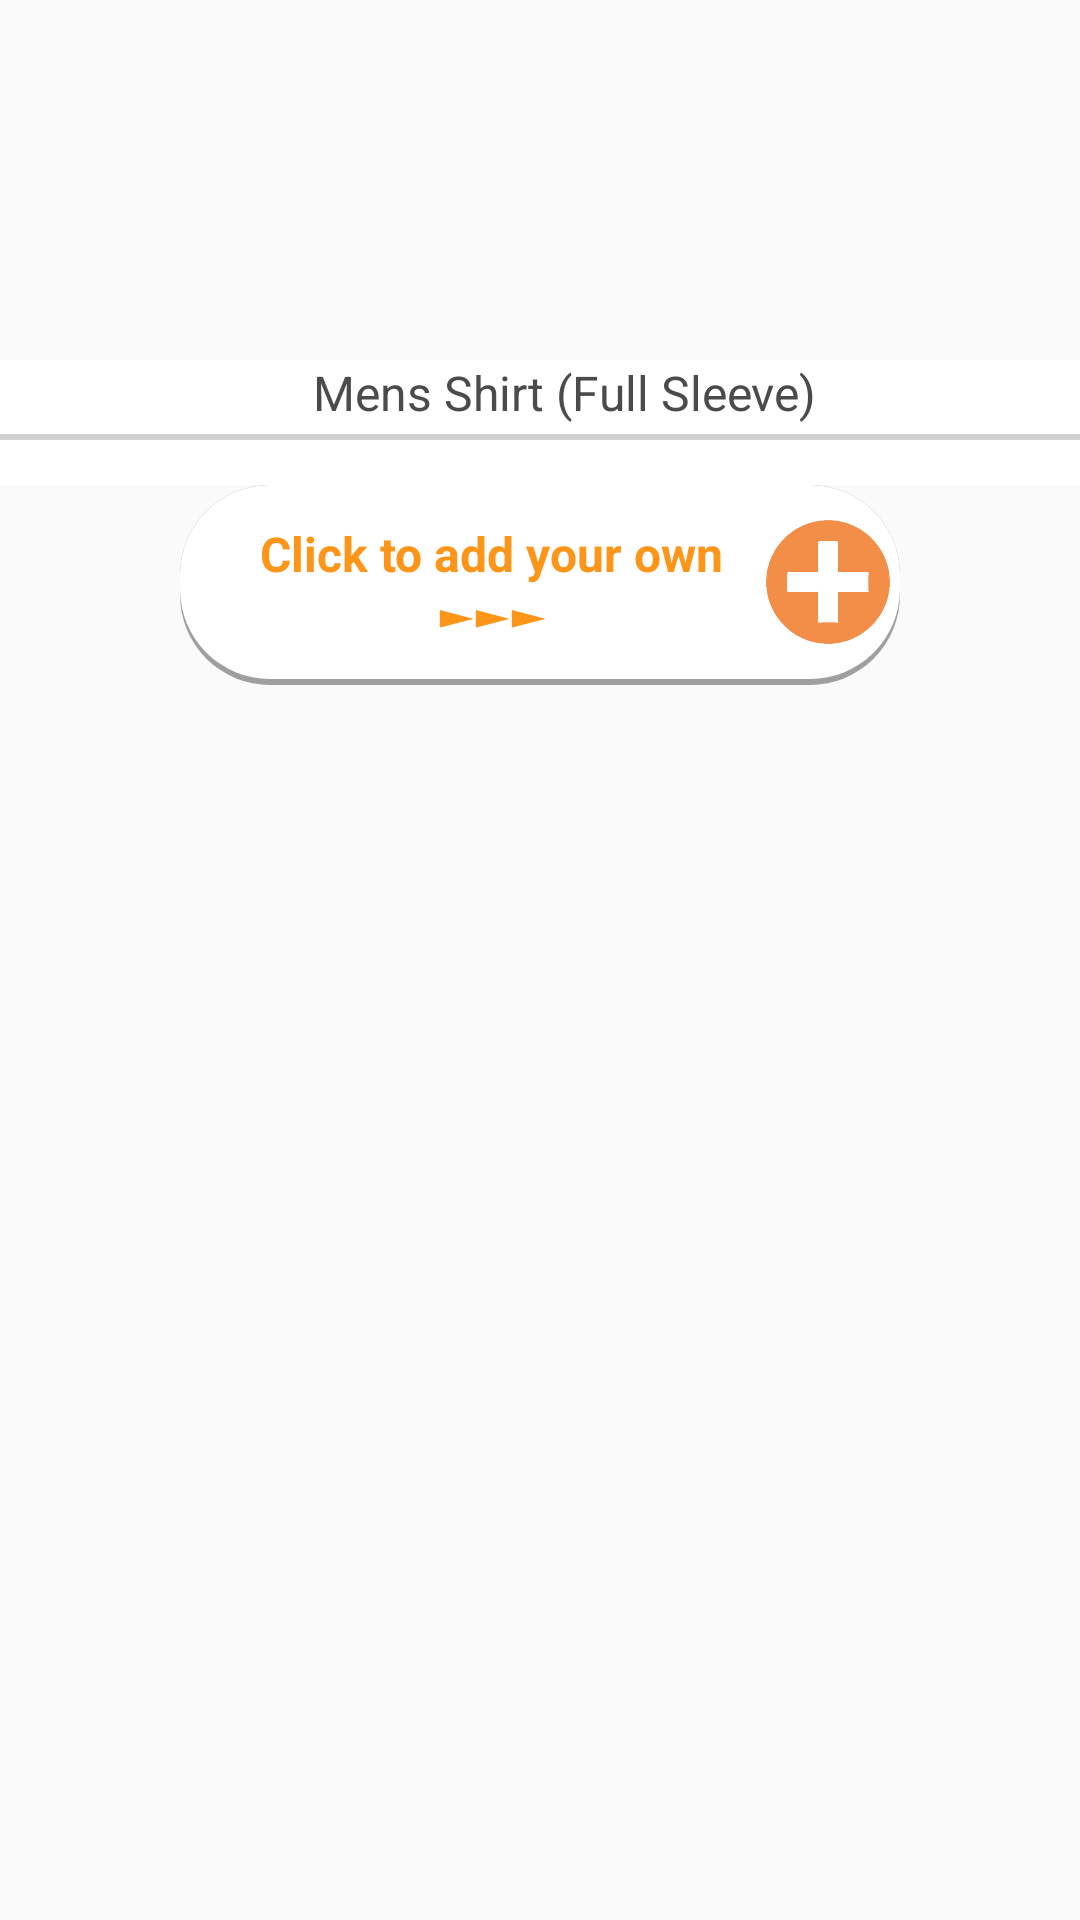

Named icons in this screenshot (1080px x 1920px) and their bounding boxes, (x1, y1, x2, y2):
plus: (766, 516, 900, 644)
